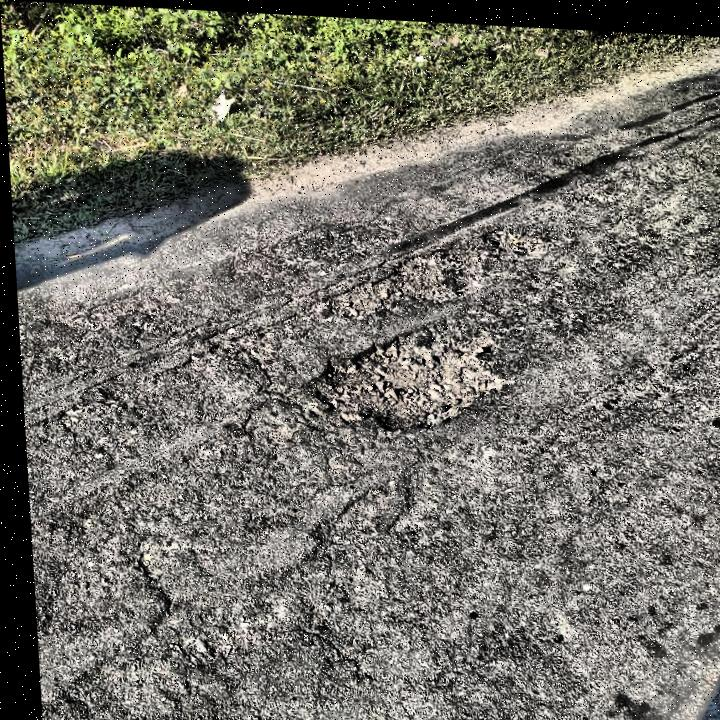pothole: (287, 311, 508, 435), (311, 240, 475, 323), (478, 218, 545, 259)
